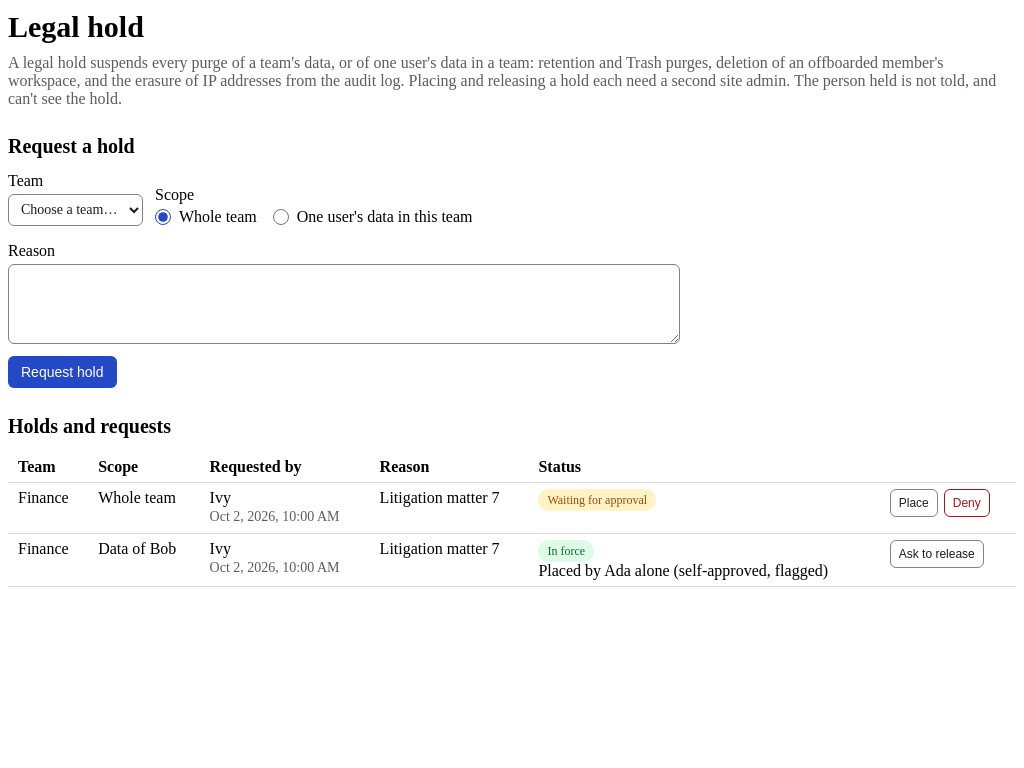
Test: site legal hold page › places a pending hold and shows self-approval flagged
expect the text "In force Placed by Ada alone (self-approved, flagged)" is shown: met, box x1=528 y1=533 x2=880 y2=586
expect the text "Data of Bob" is shown: met, box x1=88 y1=533 x2=200 y2=586
Click the button "Place": (914, 502) x1=890 y1=488 x2=938 y2=516
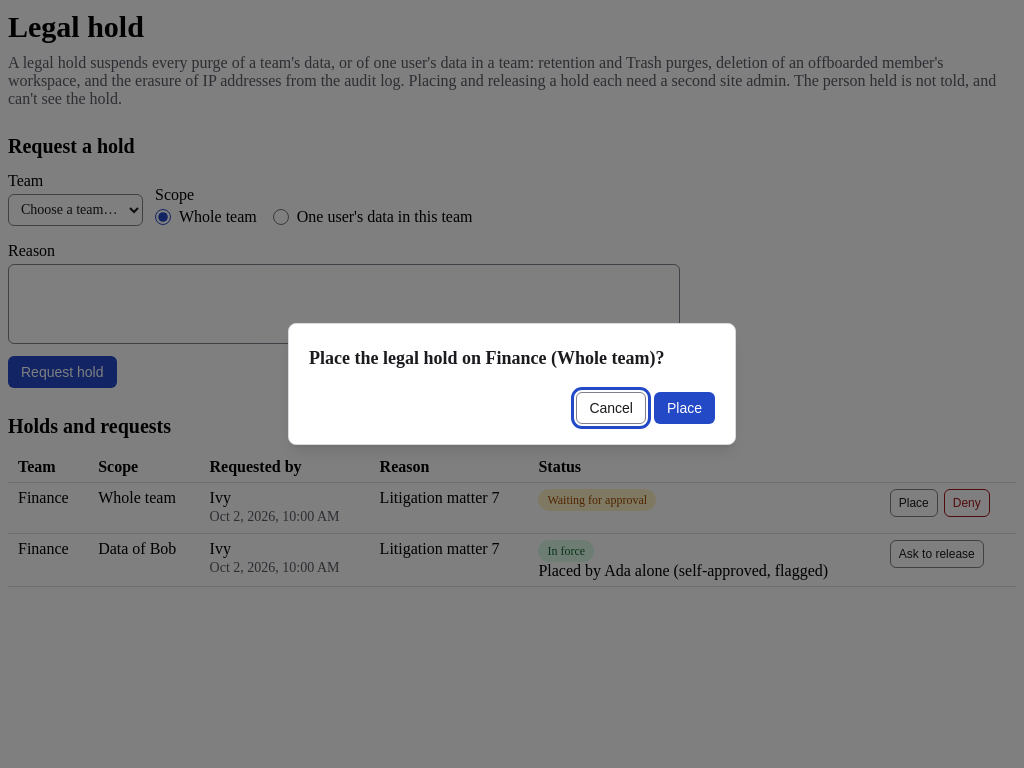
Click the button "Place": (684, 408) x1=654 y1=392 x2=715 y2=424
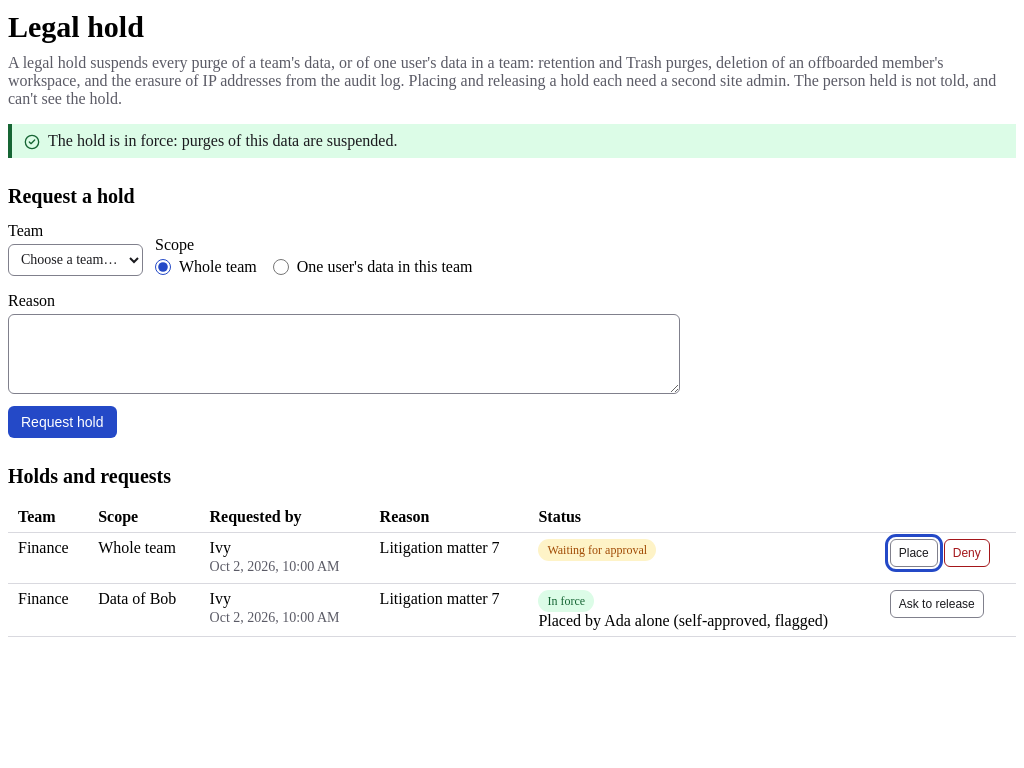
expect the text "The hold is in force: purges of this data are suspended." is shown: met, box x1=48 y1=132 x2=397 y2=148
